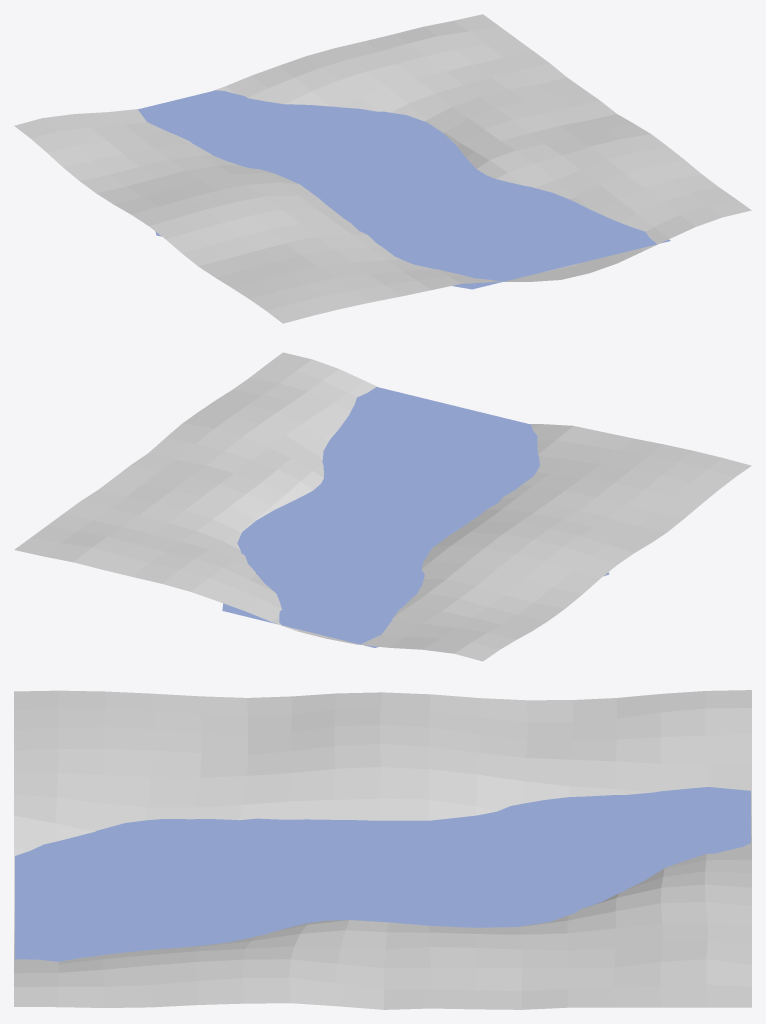
Rendered from level6.fbx.
The picture shows the model from 3 angles, top to bottom: view 1: azimuth 30°, elevation 25°; view 2: azimuth 150°, elevation 25°; view 3: azimuth 270°, elevation 25°; orthographic projection. The views are drawn at different scales.
Parts seen in each view (by area): view 1: Snow_plane.005, ICE.003; view 2: Snow_plane.005, ICE.003; view 3: Snow_plane.005, ICE.003.
Part boxes in pixels (x1,y1,x2,y2): Snow_plane.005: [14, 14, 751, 323]; ICE.003: [138, 90, 670, 289]; Snow_plane.005: [14, 352, 751, 661]; ICE.003: [222, 387, 609, 647]; Snow_plane.005: [14, 690, 751, 1009]; ICE.003: [15, 787, 750, 961].
Size of the model in its own units: 2310 by 206 by 2295.
